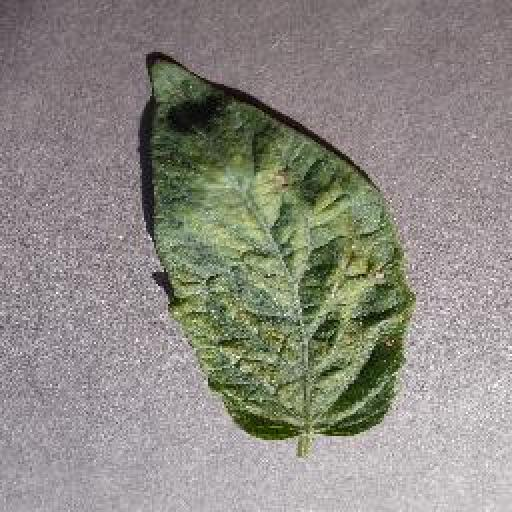Spider Mites: (148, 55, 416, 440)
